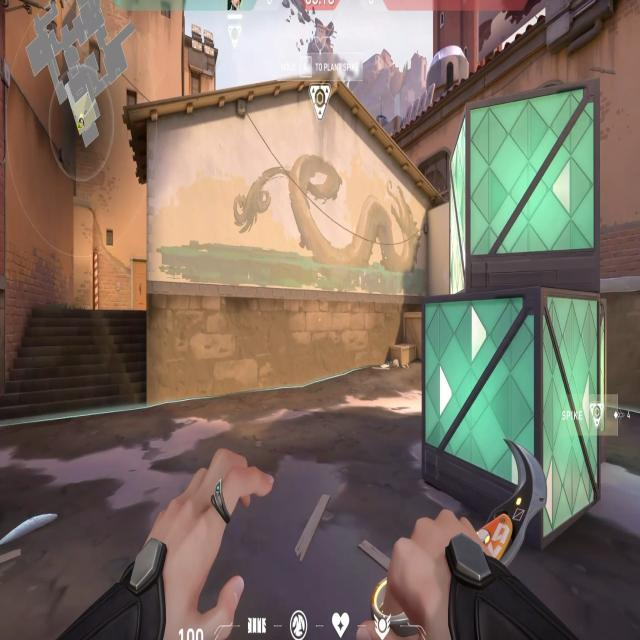B_Site_Box: (415, 89, 623, 549)
